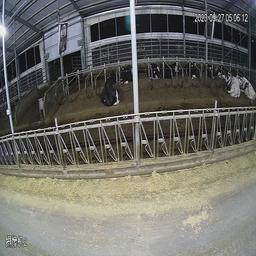cow: (99, 62, 125, 117), (163, 48, 182, 85), (184, 45, 201, 84), (225, 67, 241, 105), (239, 69, 255, 102), (146, 54, 162, 84), (120, 49, 132, 88), (206, 53, 219, 82)
